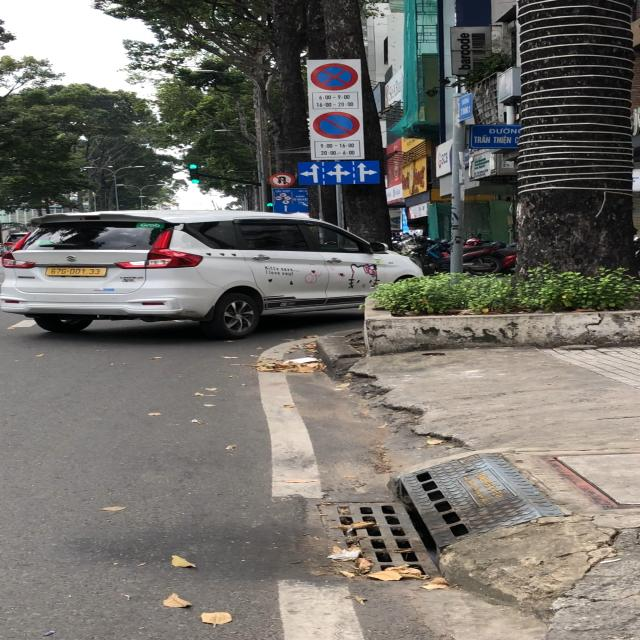Bien bao cam do xe: (306, 110, 371, 142)
Bien bao cam dung xe va do xe: (307, 61, 361, 93)
Bien bao cam quay dau xe: (270, 172, 295, 189)
